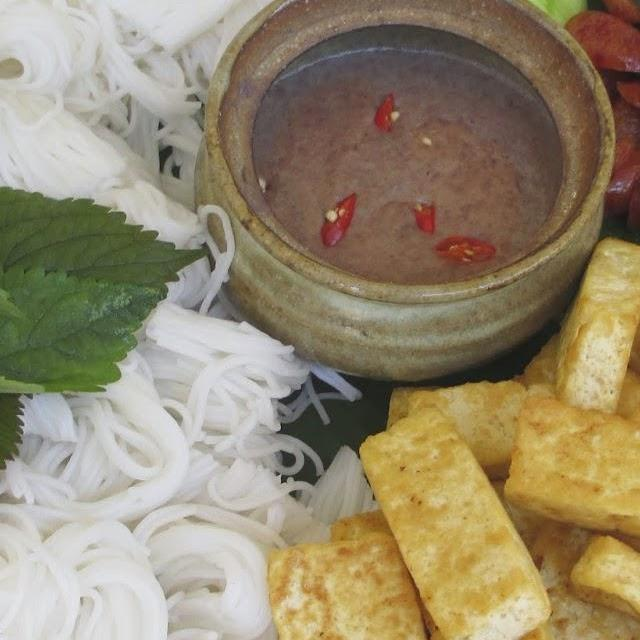bun: (0, 251, 403, 640), (0, 0, 391, 260)
dau hu: (225, 195, 640, 640)
